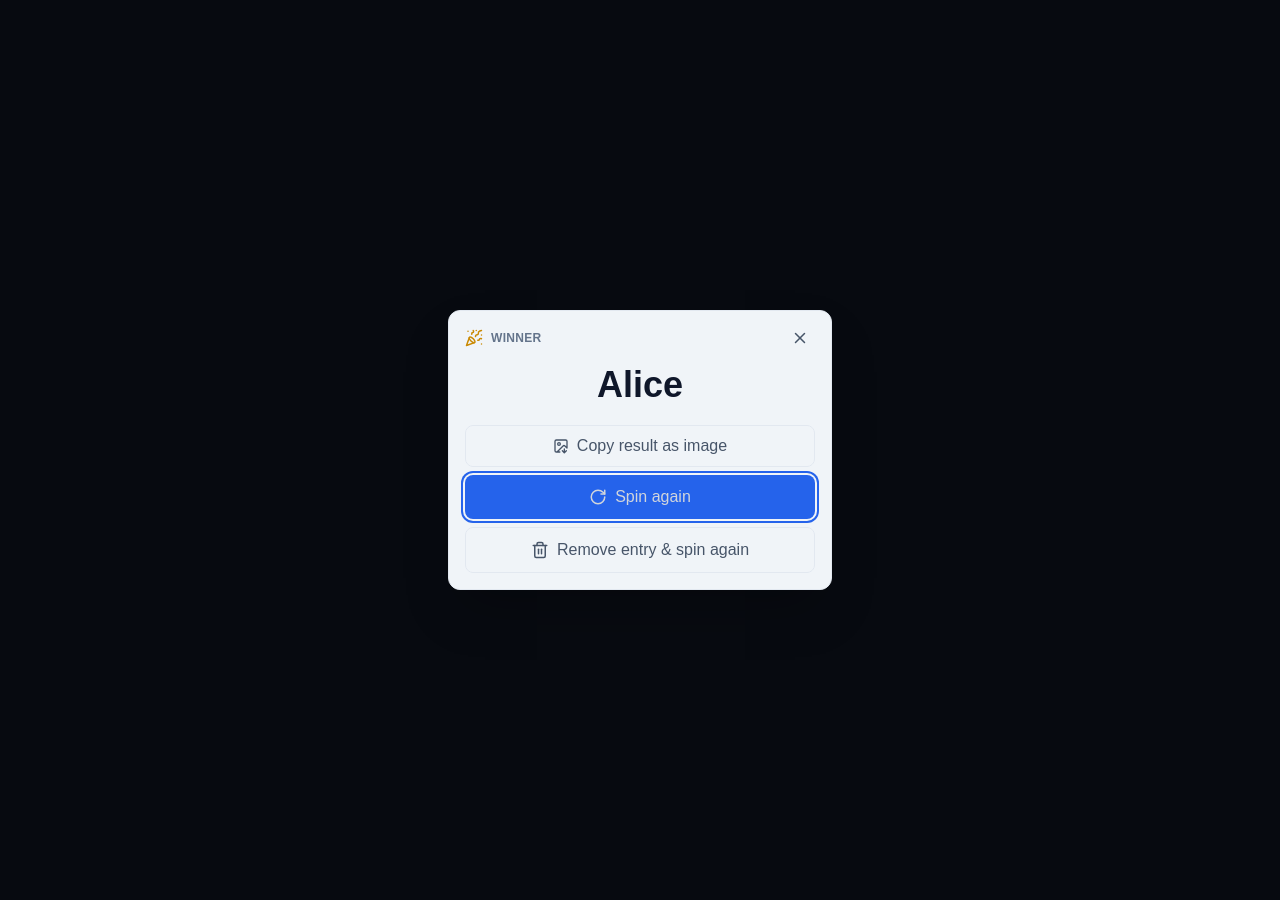
Test: WinnerModal › offers copy-as-image and confirms success on the button
Step 1. Click the button "Copy result as image" → (640, 446), box 465,425 -> 815,467
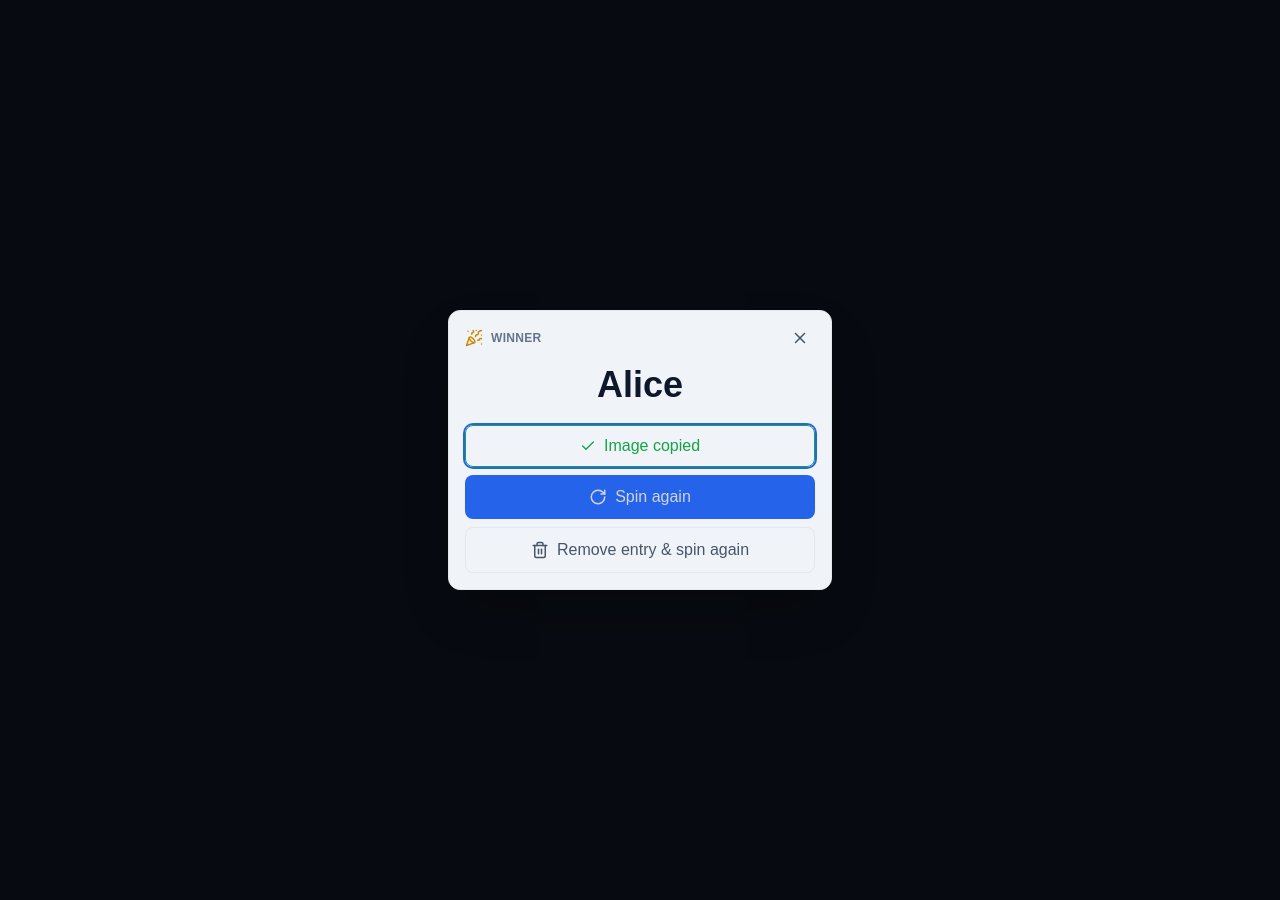
Expected: the button "Image copied" is shown, 465,425 -> 815,467
